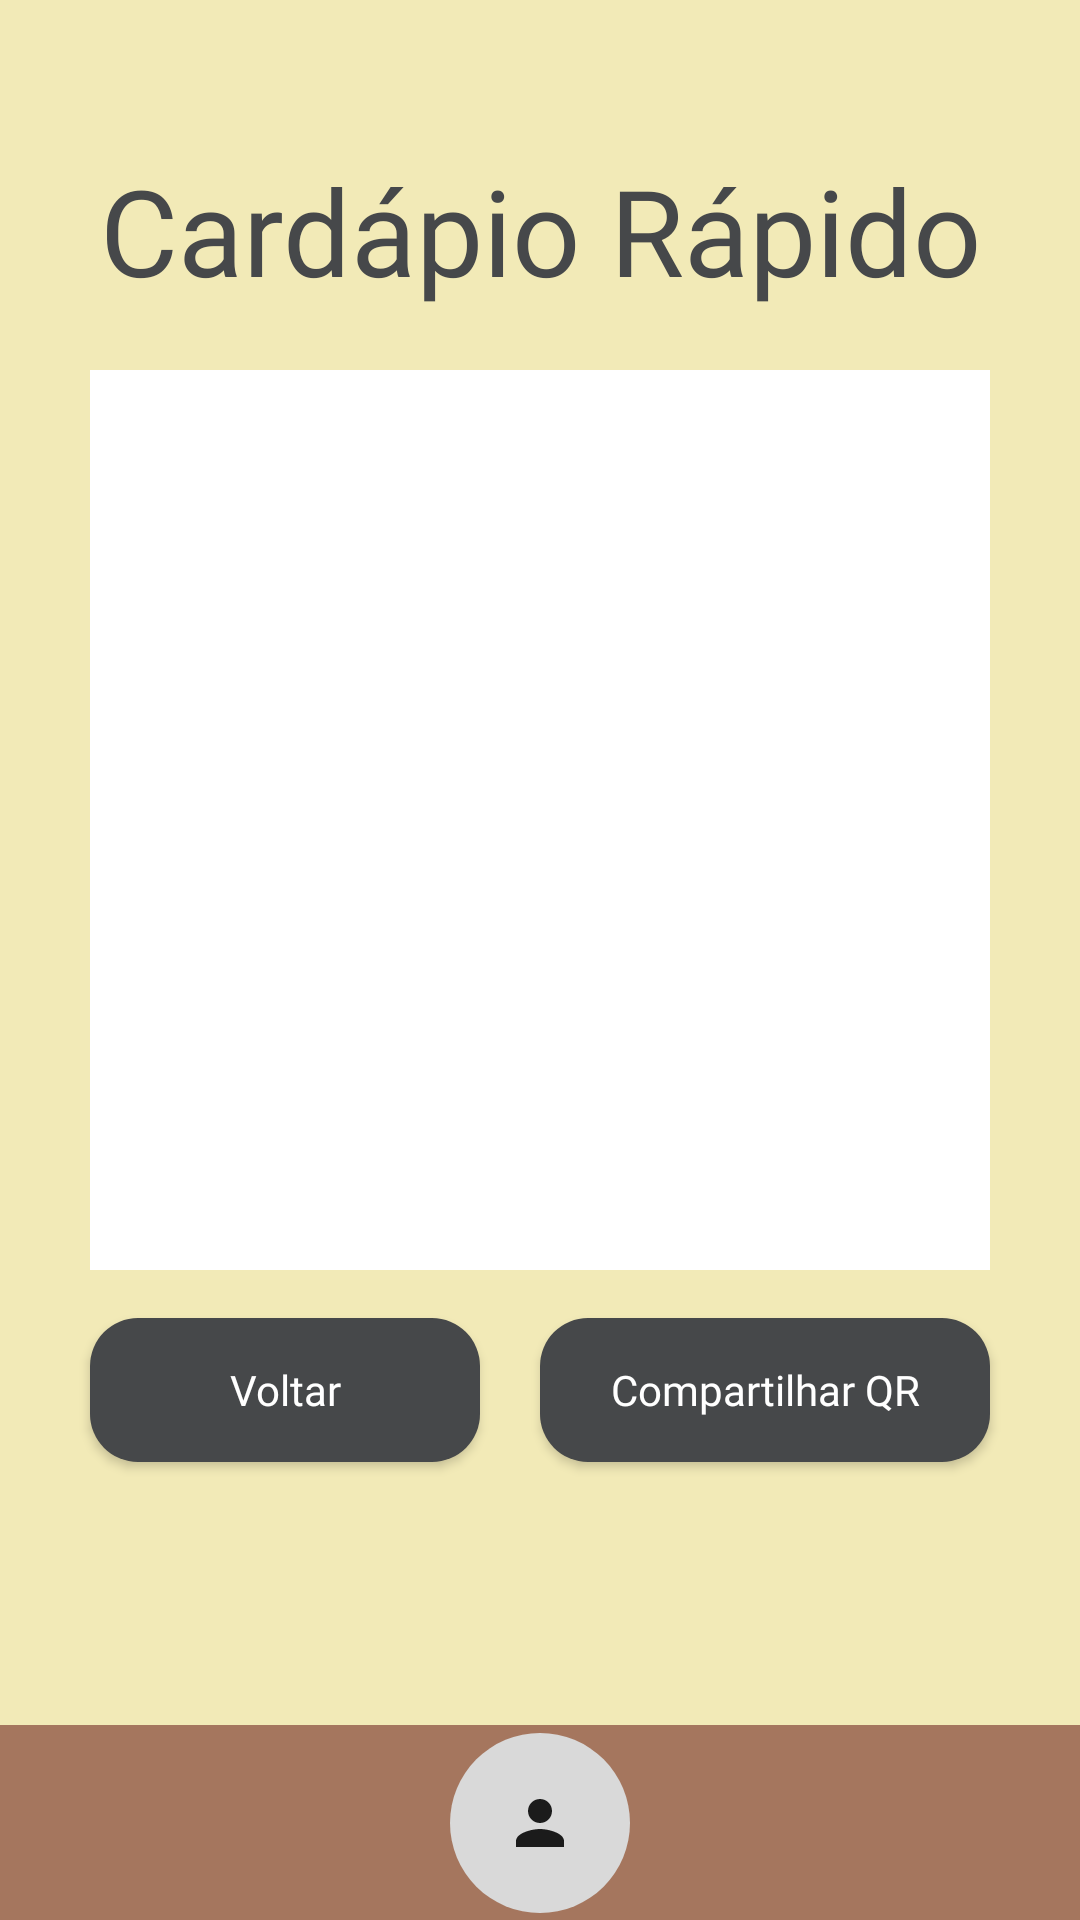

Where to tap for icons on this 1080 × 1920 app screen, as point (x, y):
user: point (540, 1823)
